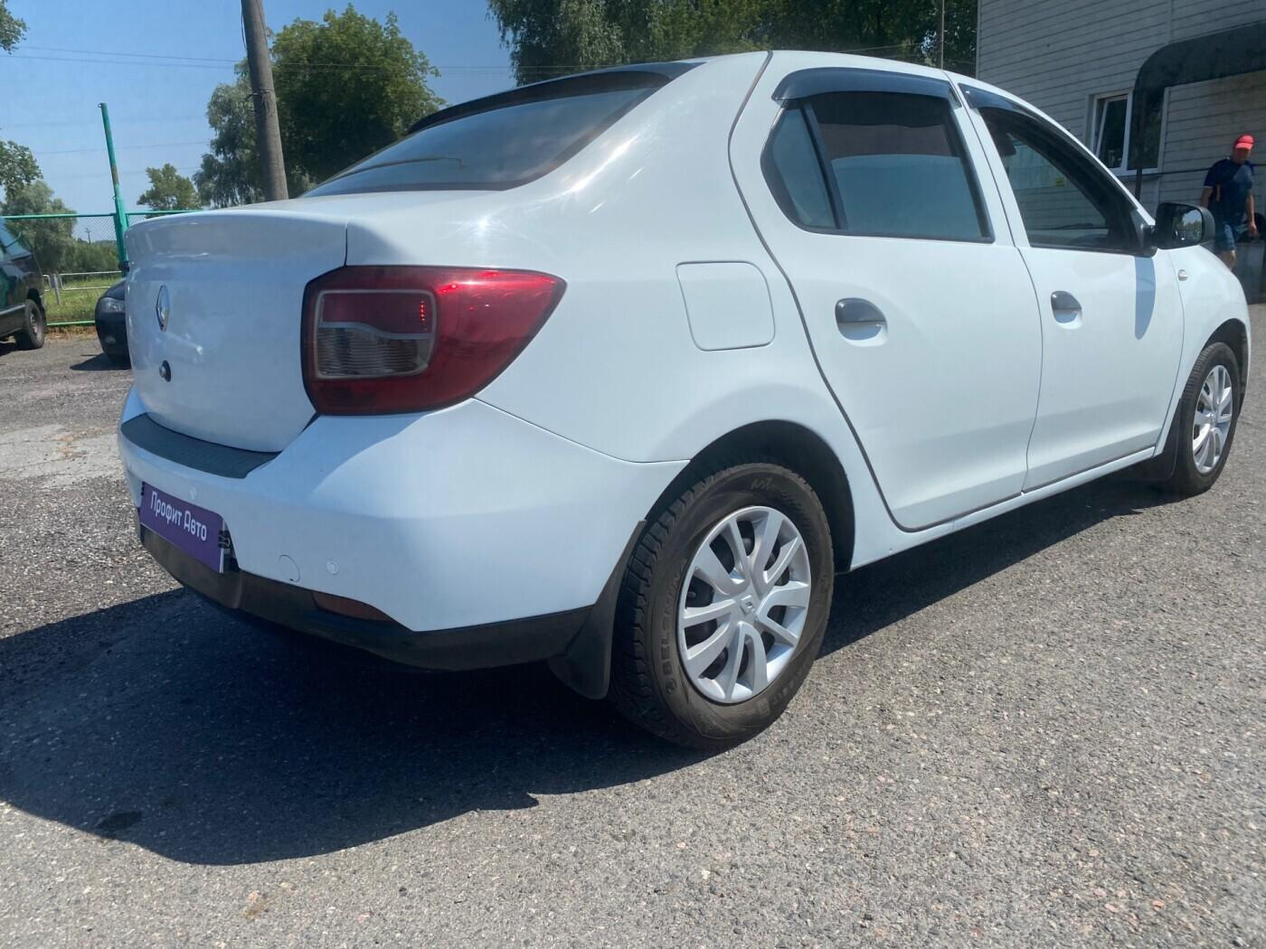Logan_2018: (111, 49, 1260, 748)
